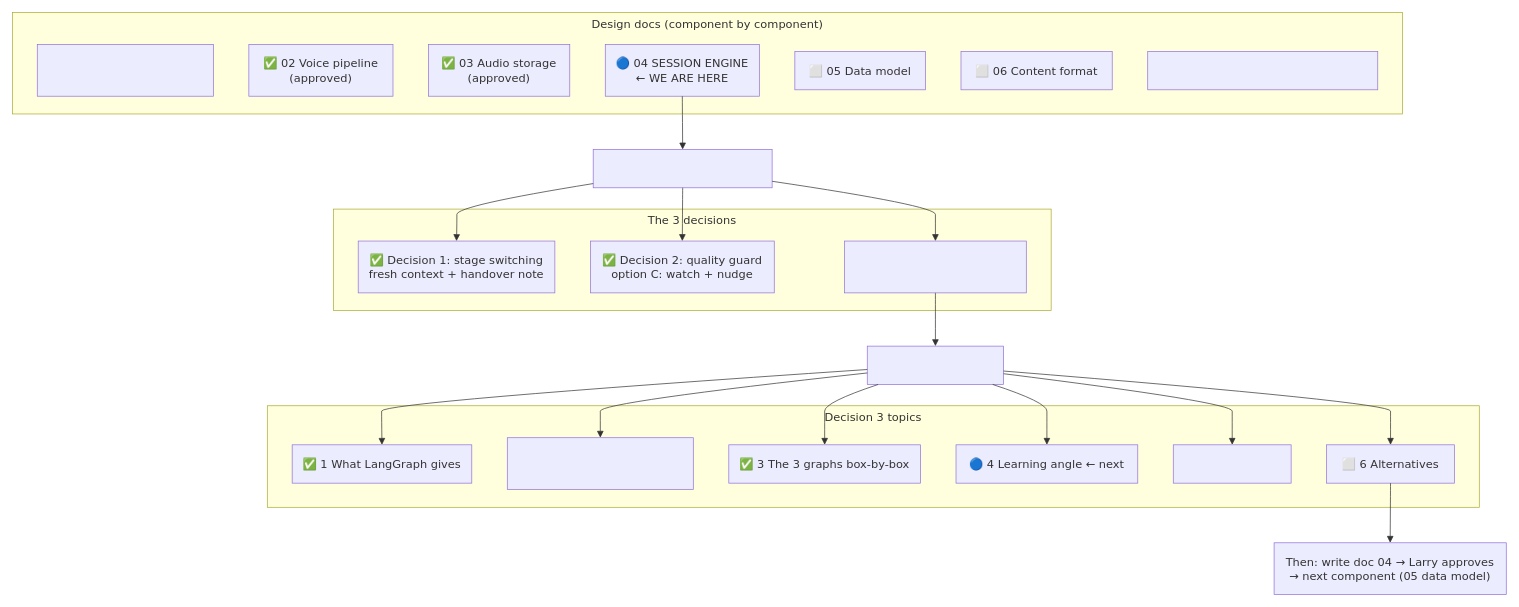
Image size: 1519x607. Some labels were removed from this diagram. The shapes that lost their labels are listed below. From the top down, each one's centre as x and y in pixels, then its label:
At (125,70): "✅ 01 Stack + architecture (draft, awaiting approval)".
At (1262,70): "⬜ 07 Auth · payments · notifications".
At (682,168): "Session engine: 3 decisions".
At (935,266): "🔵 Decision 3: tool per part LangGraph vs plain Python".
At (935,364): "6 discussion topics".
At (600,463): "✅ 2 Conductor stays Python (+ Pipecat trial, D-045)".
At (1232,463): "⬜ 5 Risk angle".
